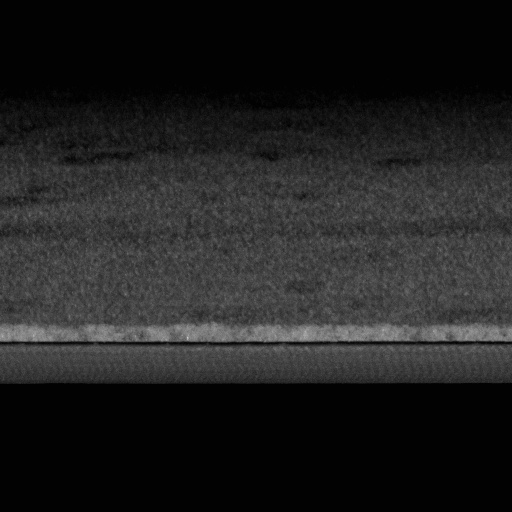jiaofeng: (0, 337, 511, 351)
